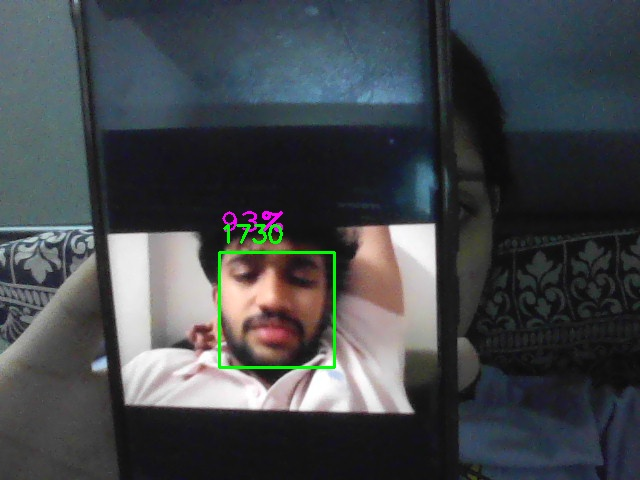fake: (219, 252, 335, 368)
